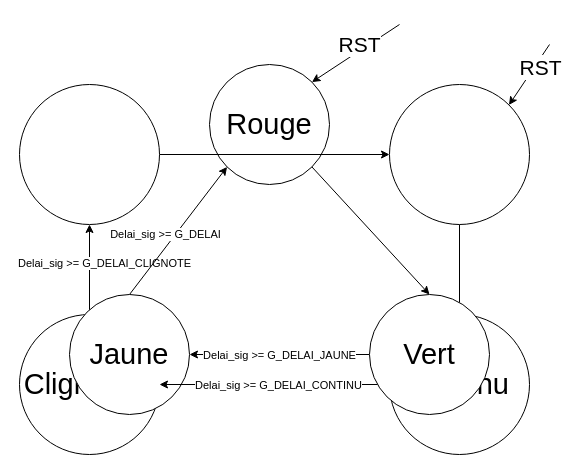
Some shapes in this 579 by 472 pixel diagram are drawn without their labels. The centre of each missing label's shape, as x and y in pixels:
"Done" goes at point (89, 154).
"Eteint" goes at point (459, 154).
